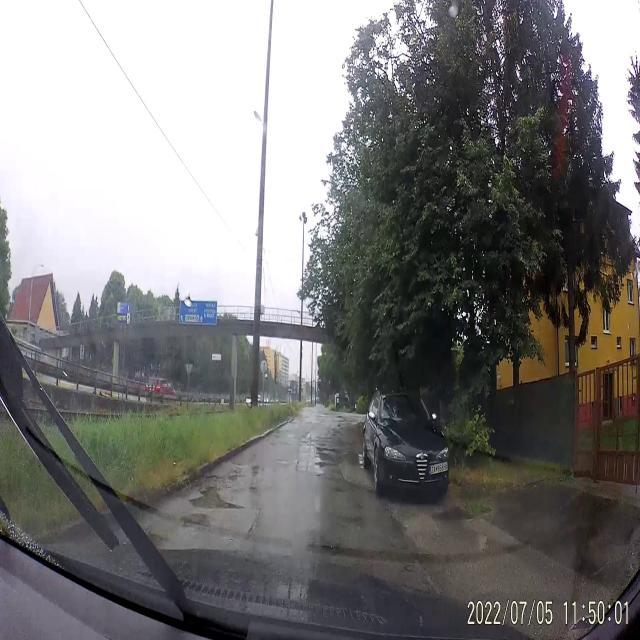Pothole: (191, 482, 245, 524), (295, 444, 343, 478)
